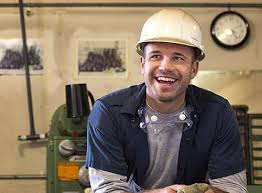Person_wearing_helmet: (132, 4, 205, 65)
